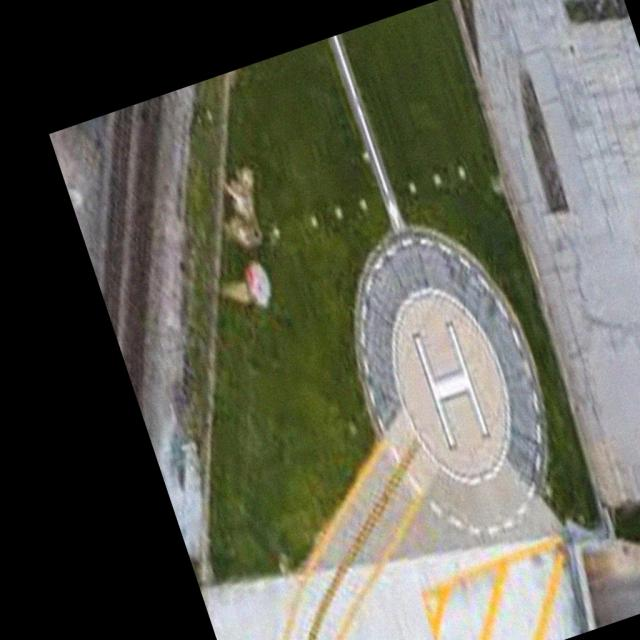helipad: (388, 285, 515, 487)
